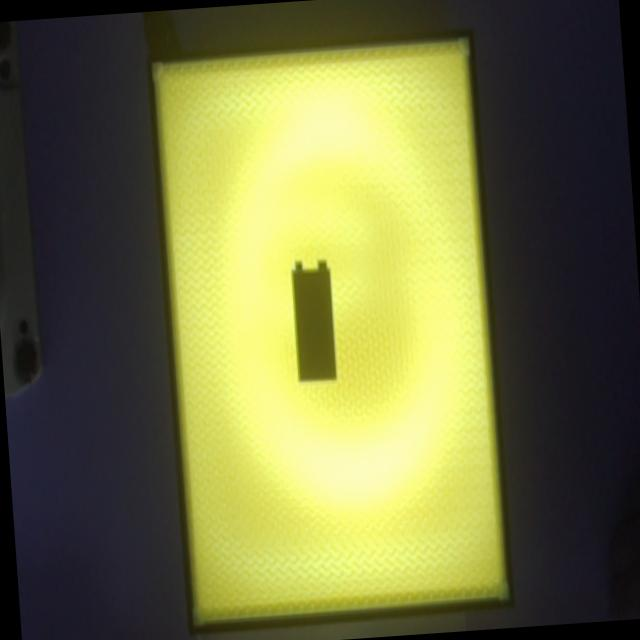bateria: (293, 262, 338, 384)
mesa: (145, 29, 514, 634)
